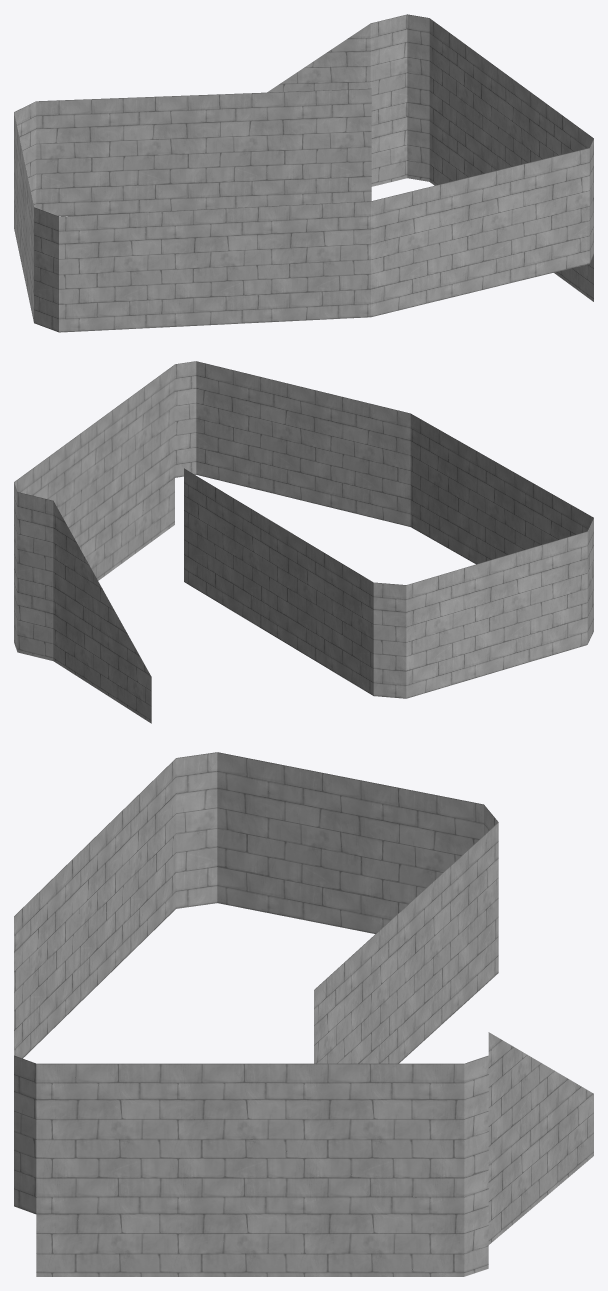
File: SM_ConcreteWall_01d.fbx
The picture shows the model from 3 angles, top to bottom: view 1: azimuth 30°, elevation 25°; view 2: azimuth 150°, elevation 25°; view 3: azimuth 270°, elevation 25°; orthographic projection. The views are drawn at different scales.
Parts seen in each view (by area): view 1: SM_ConcreteWall_01d; view 2: SM_ConcreteWall_01d; view 3: SM_ConcreteWall_01d.
Boxes of the visible parts, <box> form: SM_ConcreteWall_01d: <box>14,14,593,332</box>; SM_ConcreteWall_01d: <box>14,361,593,723</box>; SM_ConcreteWall_01d: <box>14,752,593,1276</box>.
Size of the model in its own units: 1473 by 470 by 1159.
